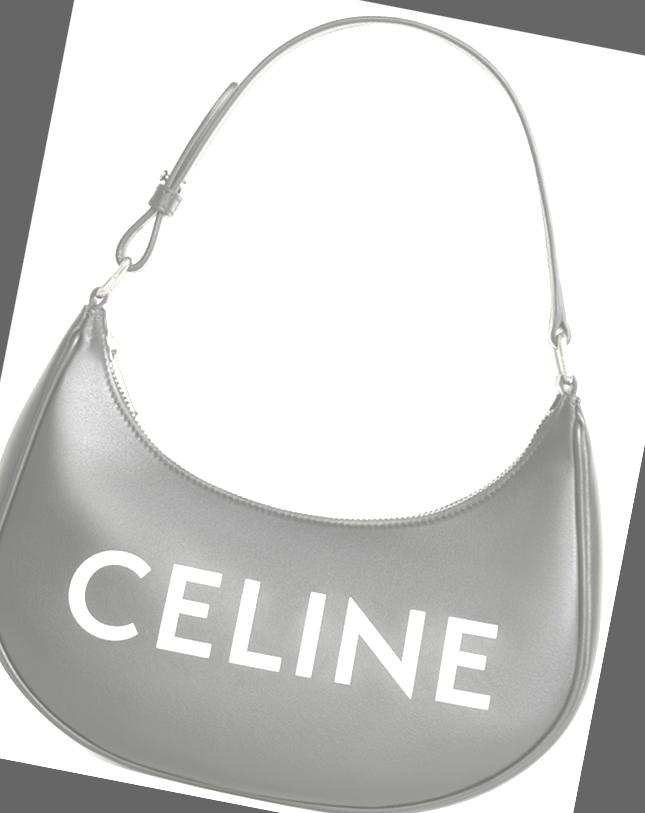CELINE: (59, 540, 502, 713)
